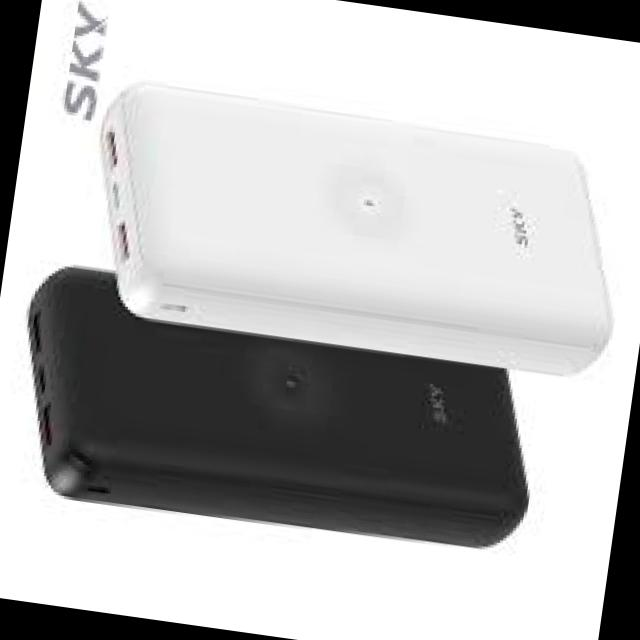portable-charger: (70, 68, 638, 386), (0, 253, 561, 572)
